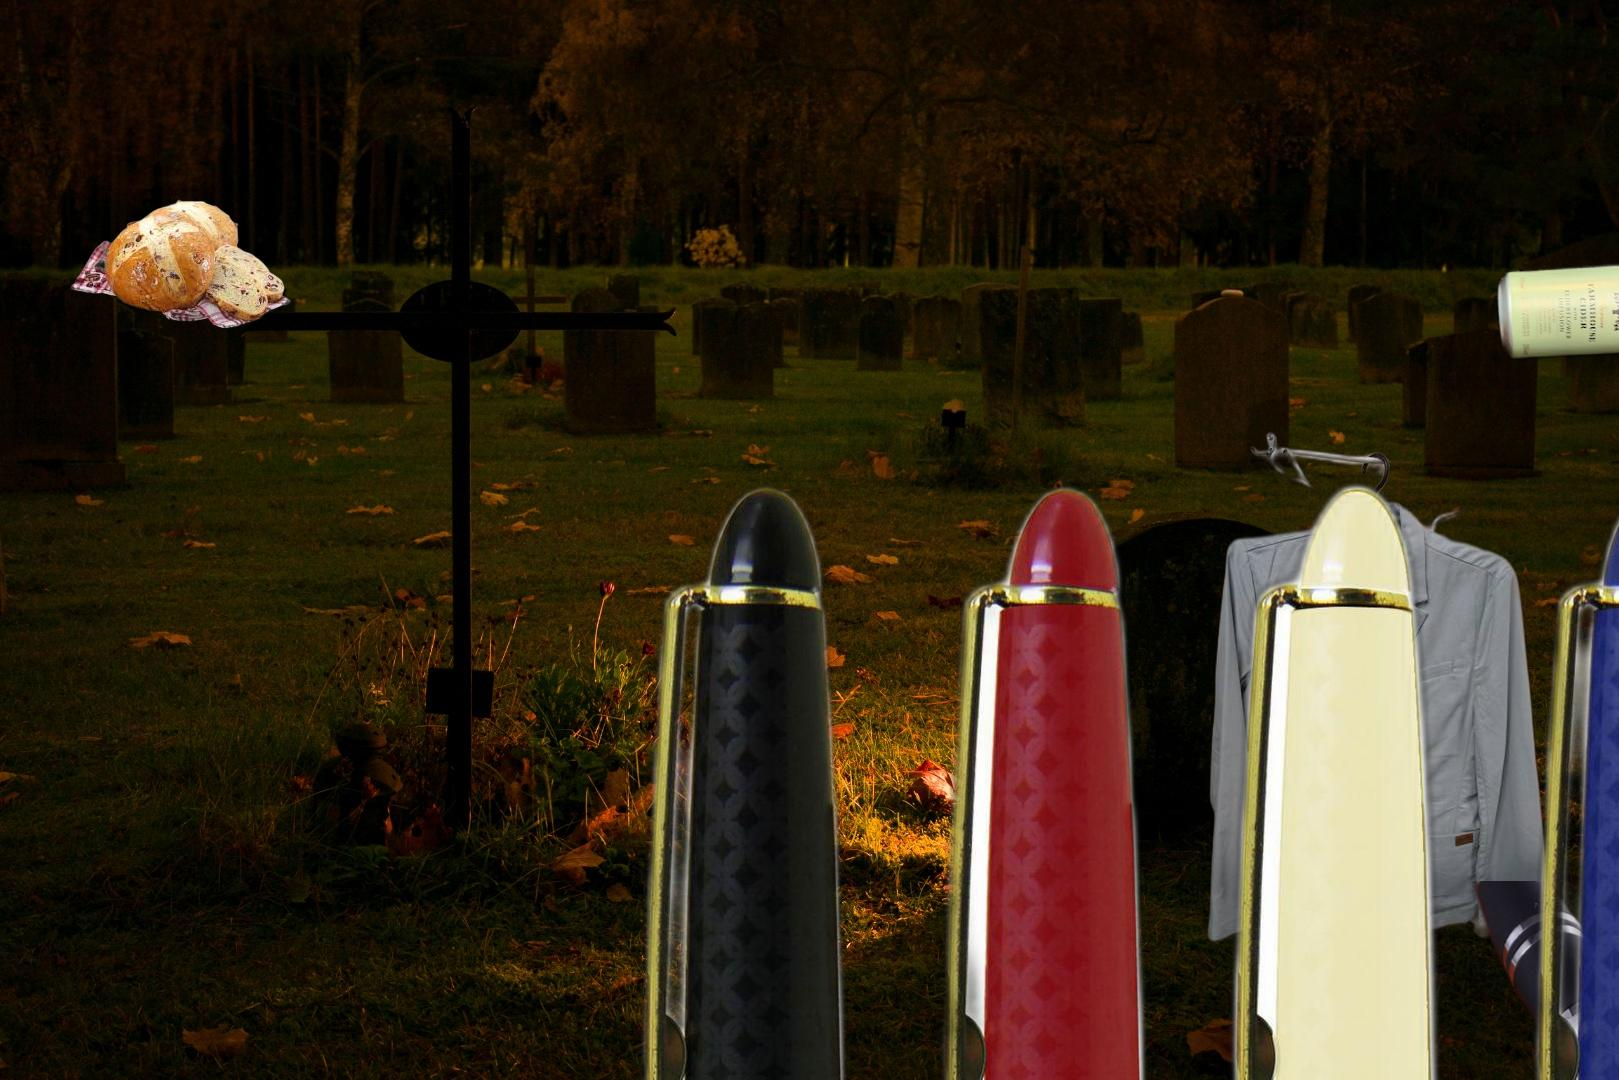biological: (68, 196, 294, 331)
clothes: (1204, 425, 1553, 950)
metal-cans: (1492, 258, 1619, 366)
penholder: (627, 469, 1619, 1080), (1468, 881, 1619, 1080)
